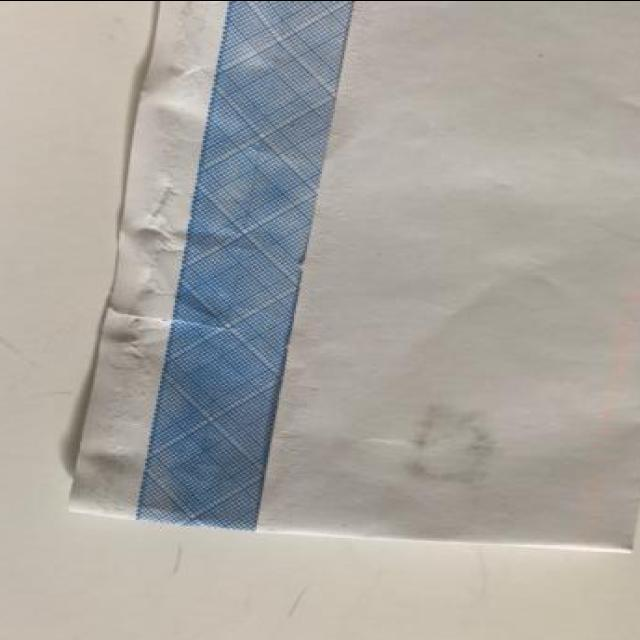kertas: (66, 0, 640, 556)
